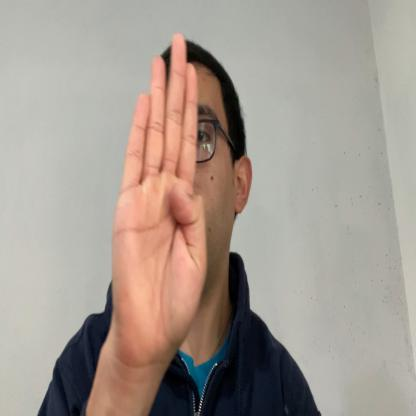B: (112, 32, 208, 357)
